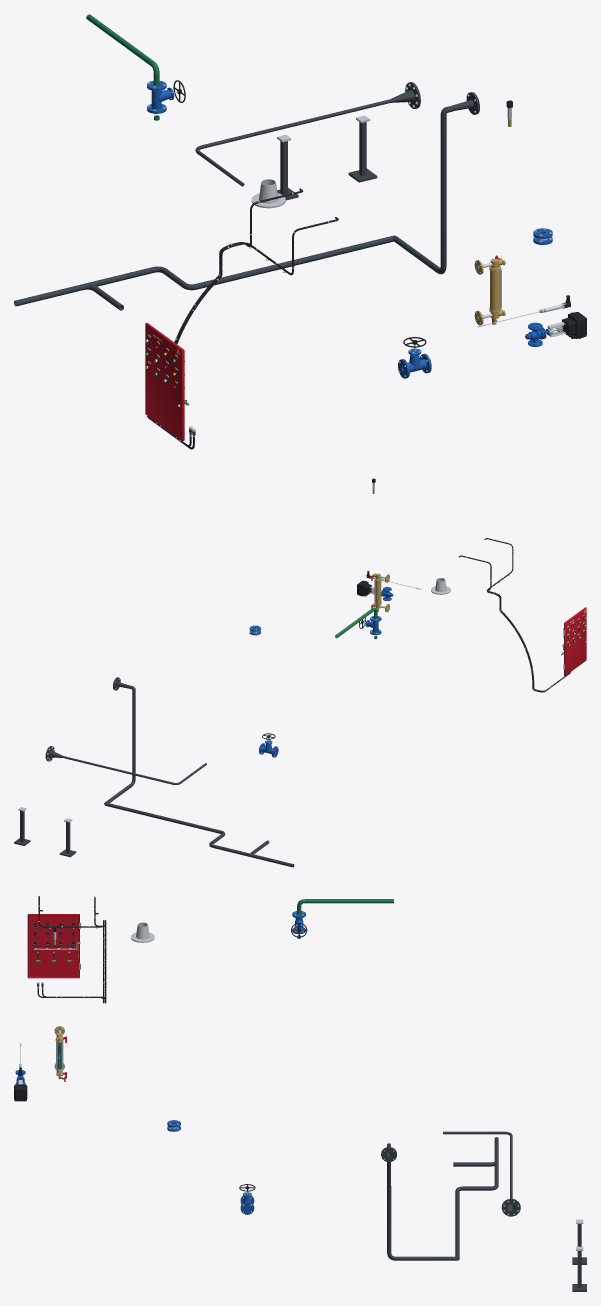
The picture shows the model from 3 angles, top to bottom: view 1: azimuth 30°, elevation 25°; view 2: azimuth 150°, elevation 25°; view 3: azimuth 270°, elevation 25°; orthographic projection. The views are drawn at different scales.
Visible parts, largest first — view 1: cabinet_door / cabinet_door_5.npz, bottom_discharge / dark, bottom_to_bdv / dark, tds_to_fv / dark, trap_support / dark, bcv925 / bcv925_0.npz, sight_glasses_1 / sight_glasses_1_0.npz, wiring_lp200 / black, direct_inlet / green, bottom_bypass_after / dark, wiring_lp400 / black, steam_mount_adapter / steel (+2 smaller); view 2: cabinet_door / cabinet_door_5.npz, bottom_discharge / dark, bottom_to_bdv / dark, tds_to_fv / dark; view 3: cabinet_door / cabinet_door_5.npz, bottom_to_bdv / dark, bottom_discharge / dark, tds_to_fv / dark, direct_inlet / green.
Boxes of the visible parts, x1=… form: cabinet_door / cabinet_door_5.npz: x1=145, y1=322, x2=184, y2=440; bottom_discharge / dark: x1=14, y1=235, x2=394, y2=305; bottom_to_bdv / dark: x1=393, y1=92, x2=479, y2=274; tds_to_fv / dark: x1=195, y1=82, x2=420, y2=186; trap_support / dark: x1=277, y1=122, x2=377, y2=200; bcv925 / bcv925_0.npz: x1=525, y1=312, x2=586, y2=346; sight_glasses_1 / sight_glasses_1_0.npz: x1=474, y1=255, x2=505, y2=325; wiring_lp200 / black: x1=150, y1=217, x2=338, y2=449; direct_inlet / green: x1=86, y1=14, x2=159, y2=85; bottom_bypass_after / dark: x1=14, y1=283, x2=123, y2=310; wiring_lp400 / black: x1=147, y1=188, x2=303, y2=446; steam_mount_adapter / steel: x1=251, y1=179, x2=285, y2=208; cabinet_door / cabinet_door_5.npz: x1=563, y1=607, x2=586, y2=675; bottom_discharge / dark: x1=104, y1=802, x2=293, y2=867; bottom_to_bdv / dark: x1=104, y1=677, x2=135, y2=804; tds_to_fv / dark: x1=45, y1=746, x2=206, y2=784; cabinet_door / cabinet_door_5.npz: x1=27, y1=914, x2=80, y2=978; bottom_to_bdv / dark: x1=381, y1=1143, x2=457, y2=1260; bottom_discharge / dark: x1=455, y1=1137, x2=498, y2=1260; tds_to_fv / dark: x1=443, y1=1131, x2=520, y2=1216; direct_inlet / green: x1=297, y1=899, x2=393, y2=914.
Size of the model in its own units: 4.86 by 3.2 by 5.86.
